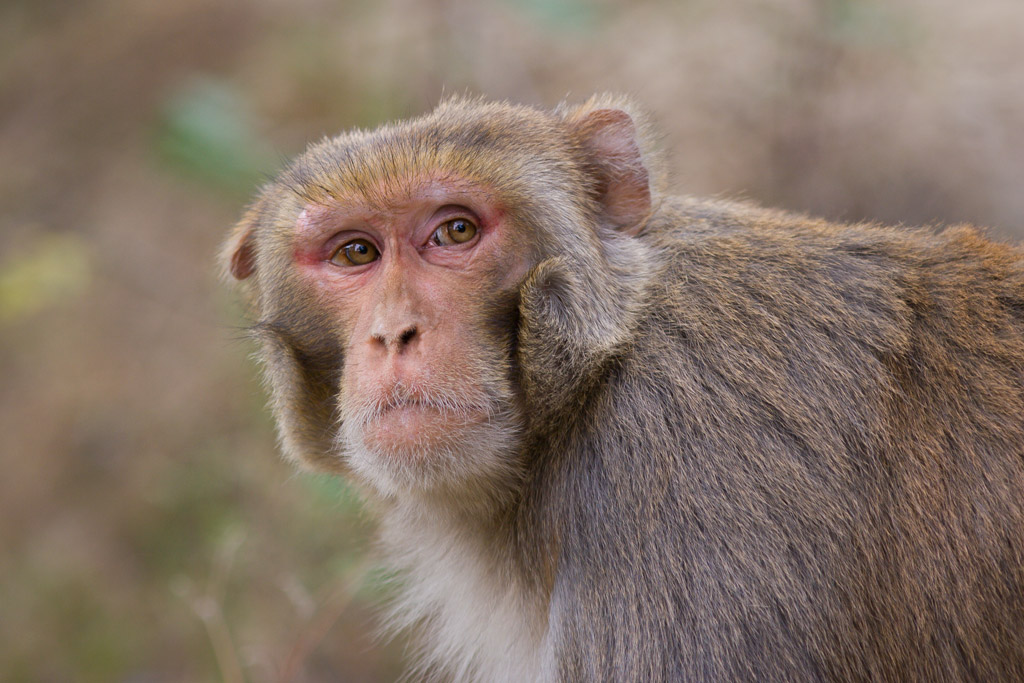monkey: (219, 89, 1024, 683)
